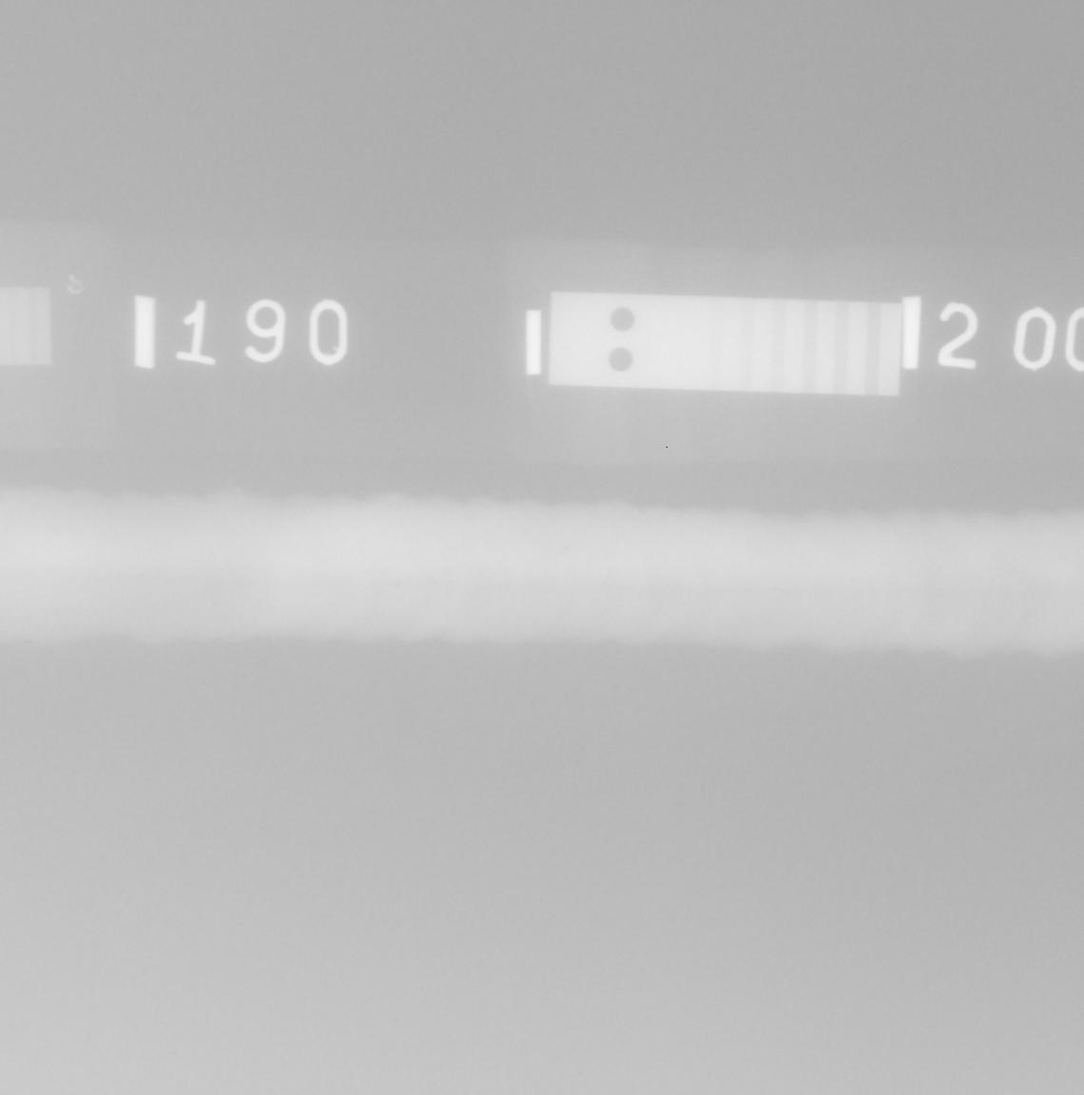Pore/Porosity: (391, 579, 401, 589), (561, 545, 569, 554), (97, 547, 103, 557), (850, 578, 855, 585), (139, 574, 144, 579), (938, 566, 941, 571)
Reference Standard 2: (548, 291, 901, 397)
